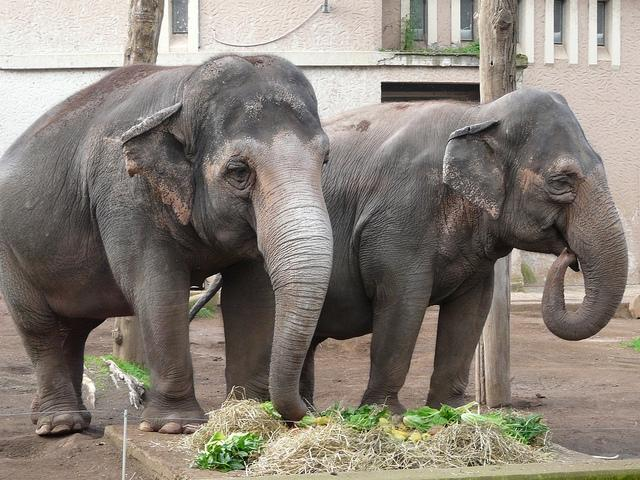lettuce: (260, 401, 287, 426), (402, 414, 436, 433), (461, 412, 506, 426), (437, 404, 463, 424), (223, 432, 250, 444), (205, 440, 223, 456), (370, 408, 388, 424), (354, 404, 378, 415), (298, 416, 316, 428), (460, 400, 476, 410), (528, 431, 542, 439), (506, 423, 526, 428), (225, 452, 232, 464), (318, 416, 326, 425), (232, 457, 243, 463), (347, 407, 356, 414), (244, 437, 253, 441), (468, 410, 476, 413)
